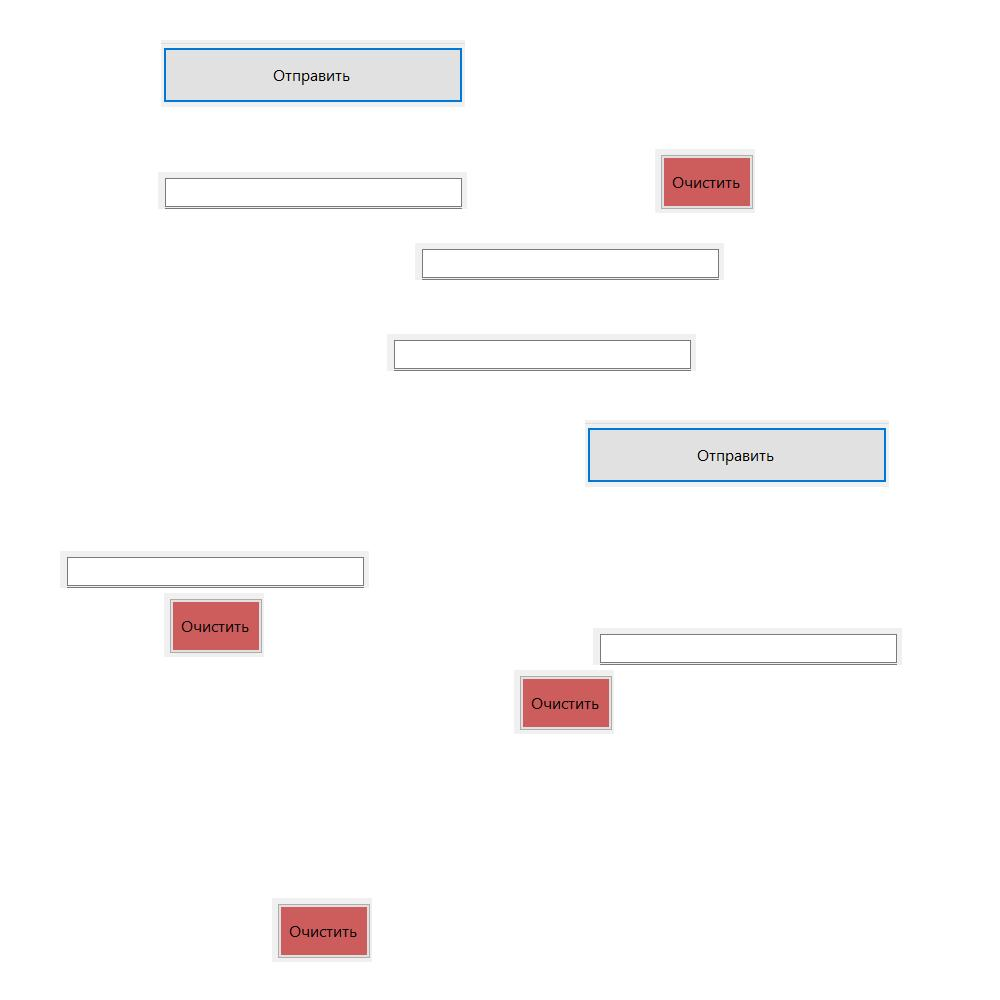Button: (161, 40, 465, 107), (585, 420, 889, 487), (514, 670, 614, 734), (272, 898, 372, 962), (164, 593, 264, 657), (655, 149, 755, 213)
EditText-: (415, 243, 724, 280), (387, 334, 696, 371), (593, 628, 902, 665), (158, 172, 467, 209), (60, 551, 369, 588)
